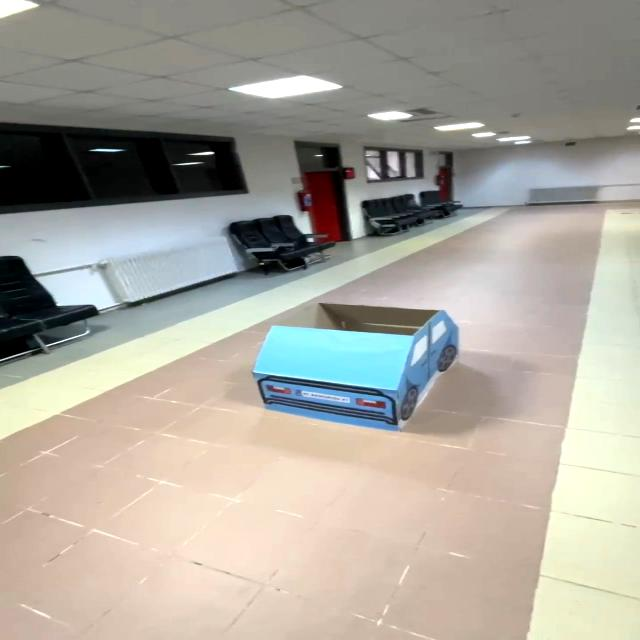blue_car: (243, 296, 478, 435)
